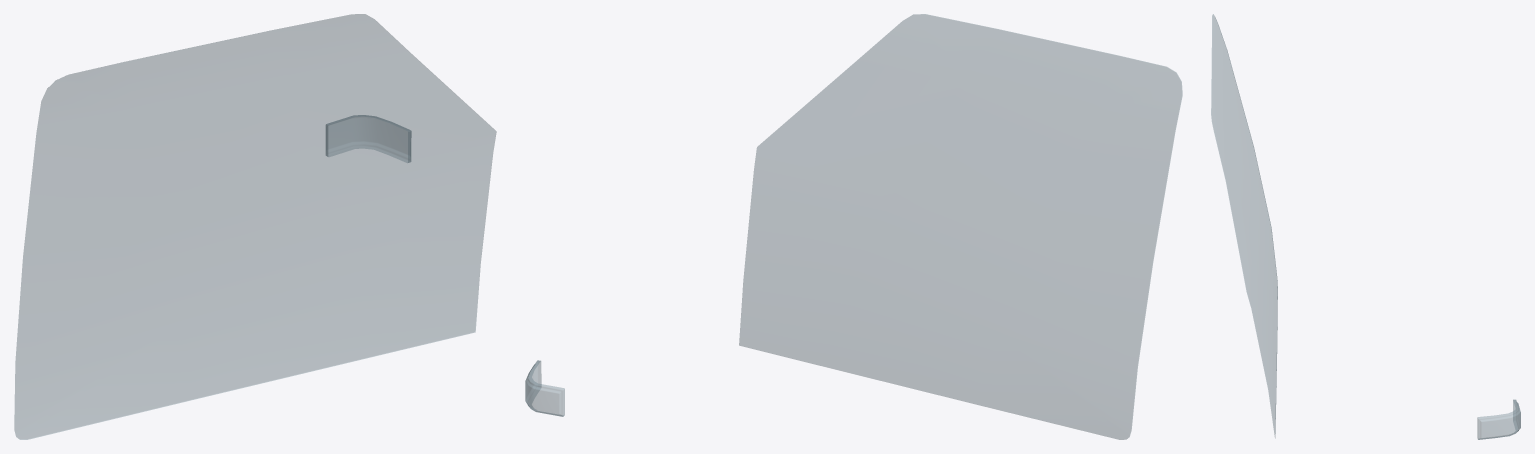
The picture shows the model from 3 angles, left to right: view 1: azimuth 30°, elevation 25°; view 2: azimuth 150°, elevation 25°; view 3: azimuth 270°, elevation 25°; orthographic projection. The views are drawn at different scales.
Parts seen in each view (by area): view 1: SM_Ambulance_Door_FL_Glass_Int1; view 2: SM_Ambulance_Door_FL_Glass_Int1; view 3: SM_Ambulance_Door_FL_Glass_Int1.
Boxes of the visible parts, bbox=[...] form: SM_Ambulance_Door_FL_Glass_Int1: bbox=[14, 14, 496, 439]; SM_Ambulance_Door_FL_Glass_Int1: bbox=[525, 14, 1182, 439]; SM_Ambulance_Door_FL_Glass_Int1: bbox=[1211, 14, 1520, 439].
Bounding box in the file's own units: 0.79 × 0.5388 × 0.5541.
